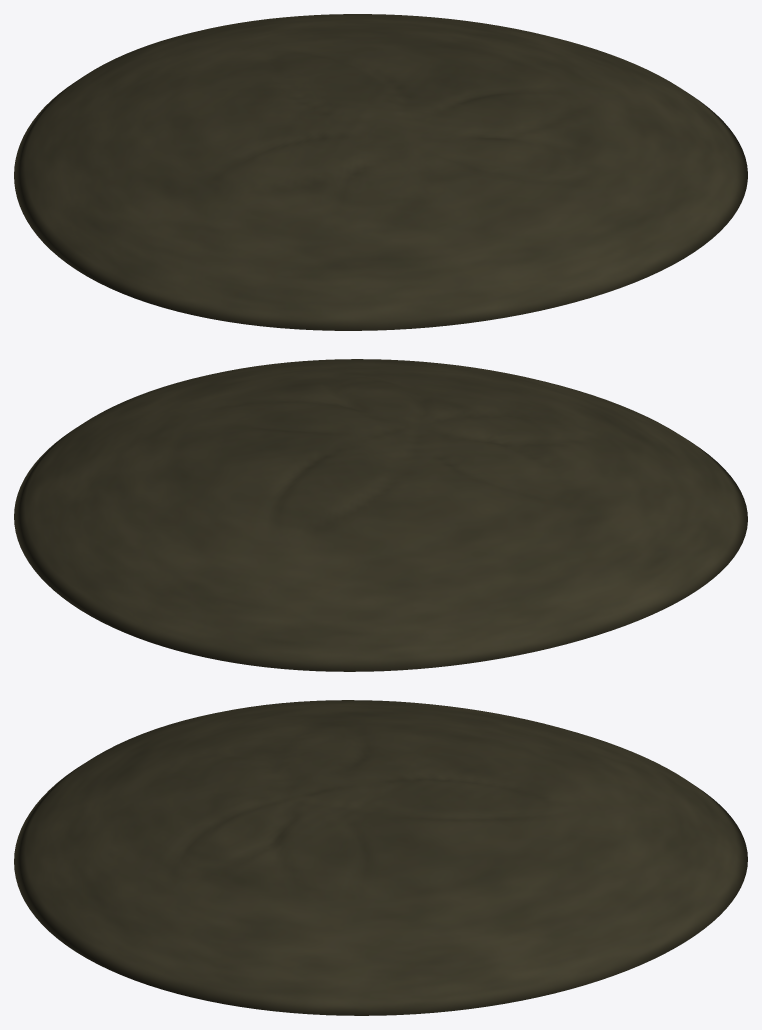
The picture shows the model from 3 angles, top to bottom: view 1: azimuth 30°, elevation 25°; view 2: azimuth 150°, elevation 25°; view 3: azimuth 270°, elevation 25°; orthographic projection.
Parts seen in each view (by area): view 1: NEW657_Living_Dendraster; view 2: NEW657_Living_Dendraster; view 3: NEW657_Living_Dendraster.
Boxes of the visible parts, x1=… form: NEW657_Living_Dendraster: x1=14, y1=14, x2=747, y2=330; NEW657_Living_Dendraster: x1=14, y1=359, x2=747, y2=671; NEW657_Living_Dendraster: x1=14, y1=700, x2=747, y2=1015.
Size of the model in its own units: 0.07 by 0.008 by 0.0698.
1 material, 1 textured.
